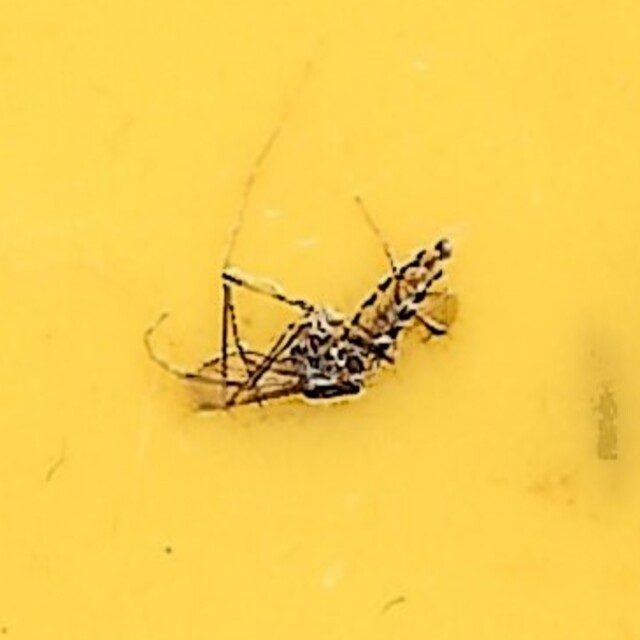Nematocera: (175, 212, 465, 428)
